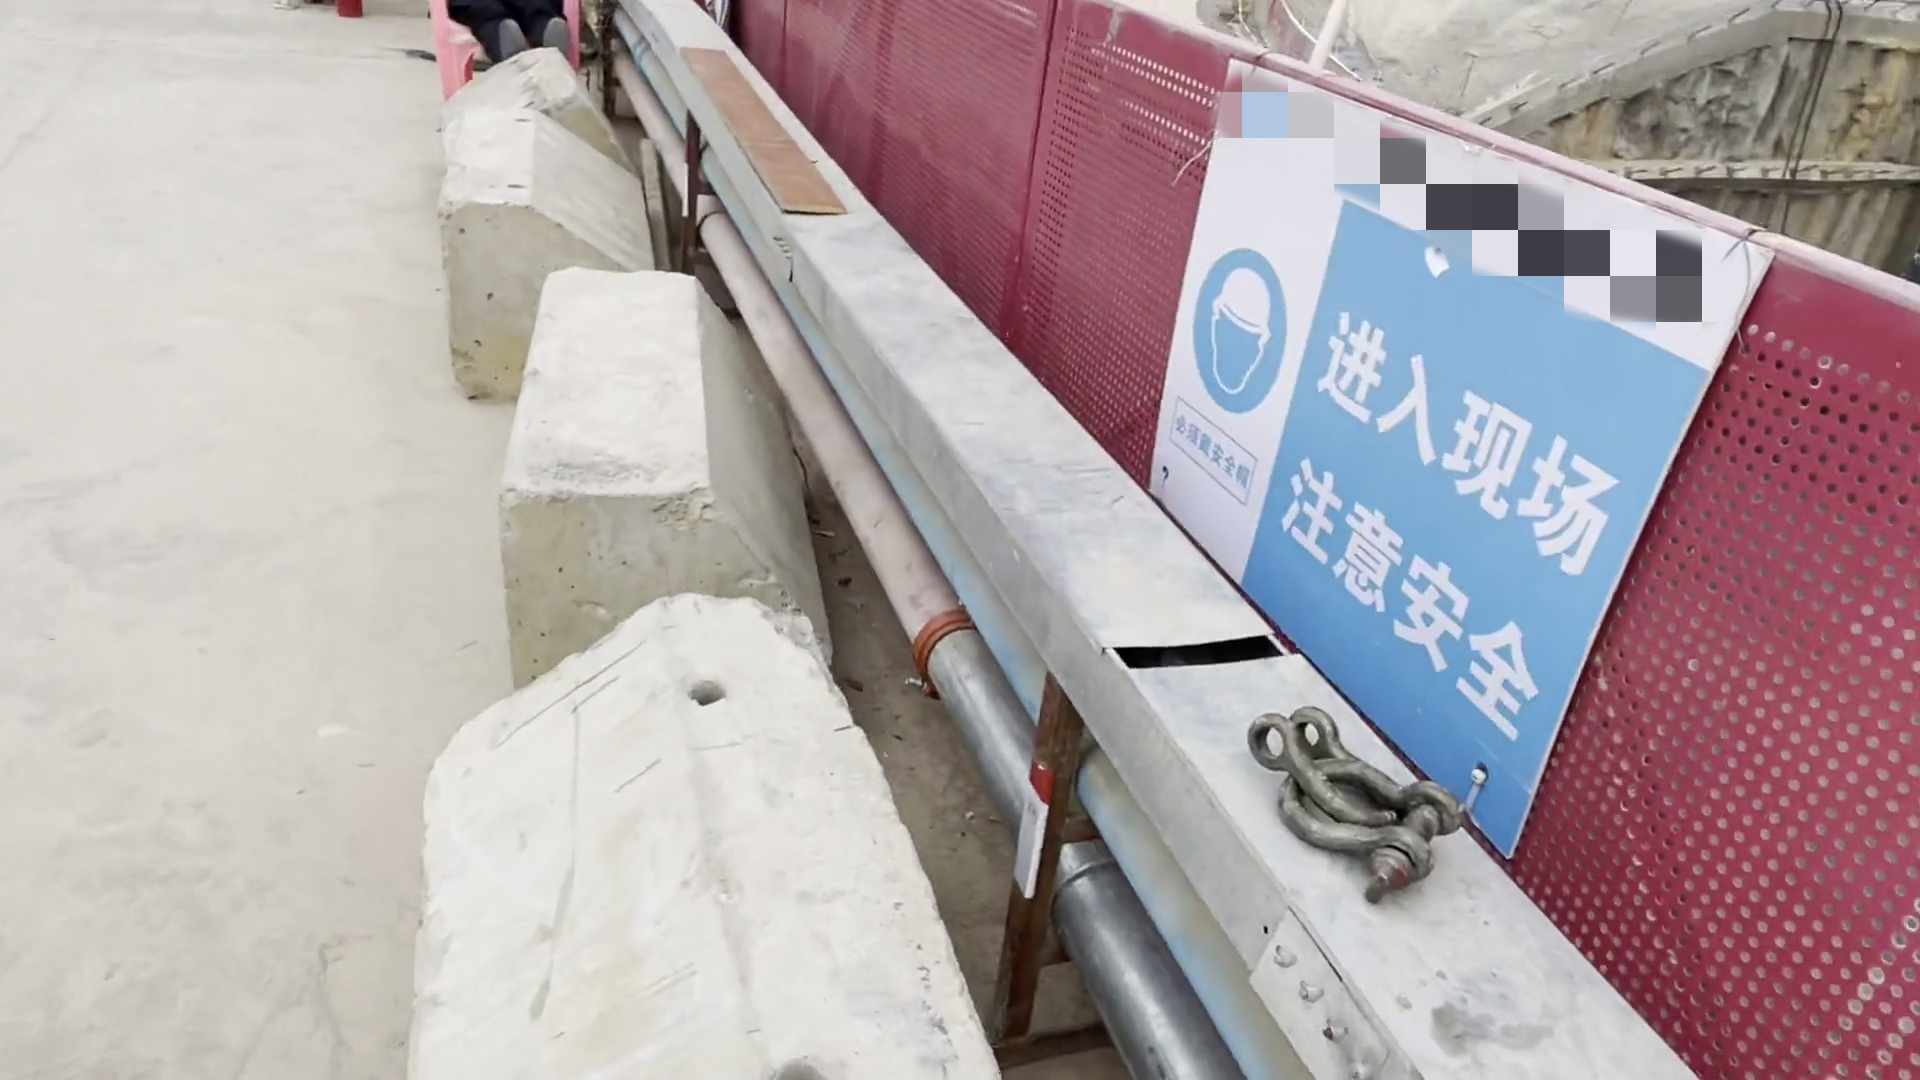fence: (1044, 11, 1920, 1069), (729, 1, 1036, 401)
slogan: (1163, 187, 1567, 715)
